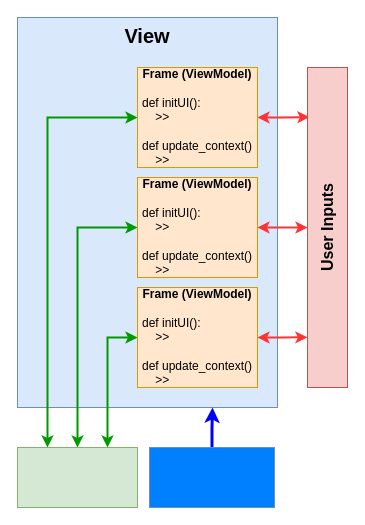
Some shapes in this 365 by 525 pixel diagram are drawn without their labels. Each missing label, with the box of its shape:
Context (Model): (16, 446, 138, 508)
tk.Tk(): (148, 446, 274, 508)
